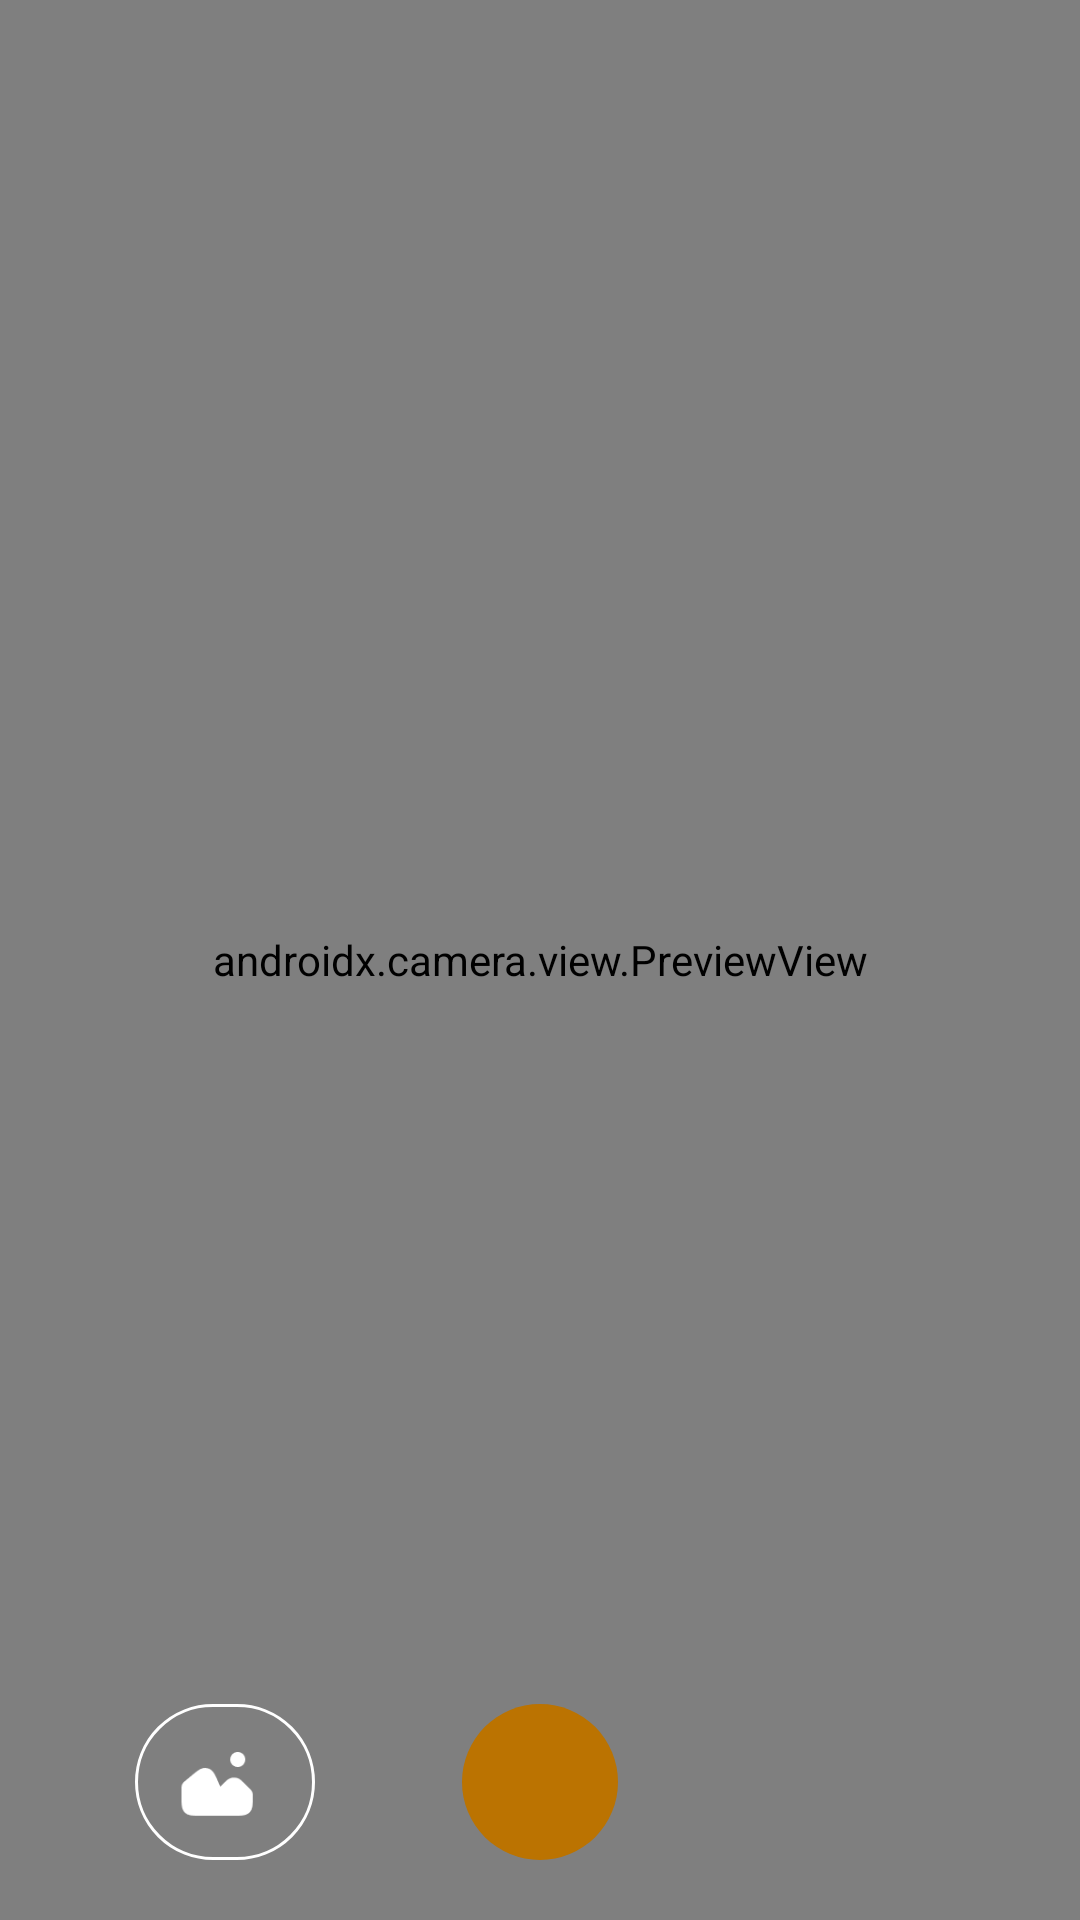

Screen size 1080px×1920px. Icon name, then its center in pixels as (x=x, y=y):
gallery: (x=225, y=1782)
